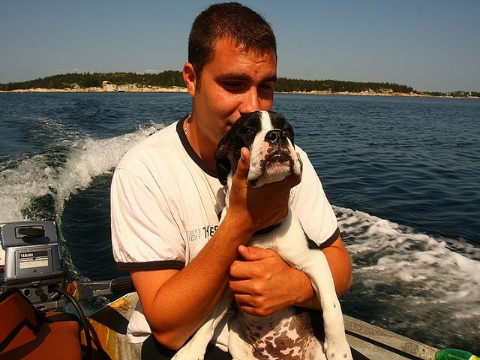hand: (228, 244, 297, 317)
